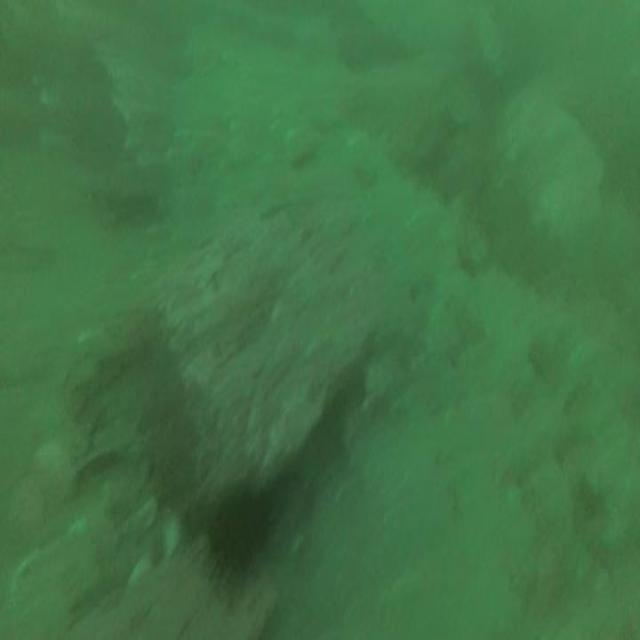echinus: (209, 499, 269, 578)
